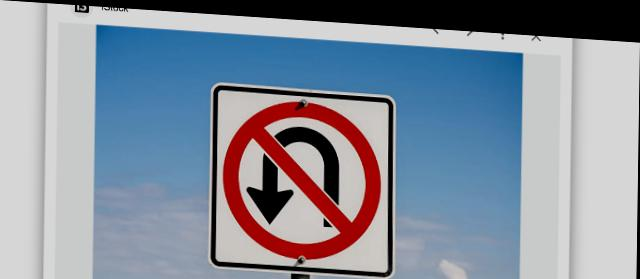not_u_turn_left: (222, 90, 384, 266)
